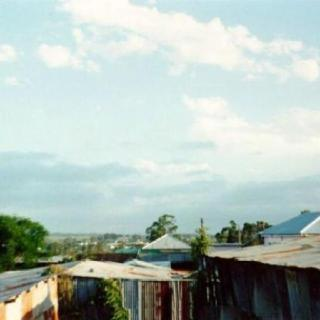Stratus: (0, 0, 320, 230)
